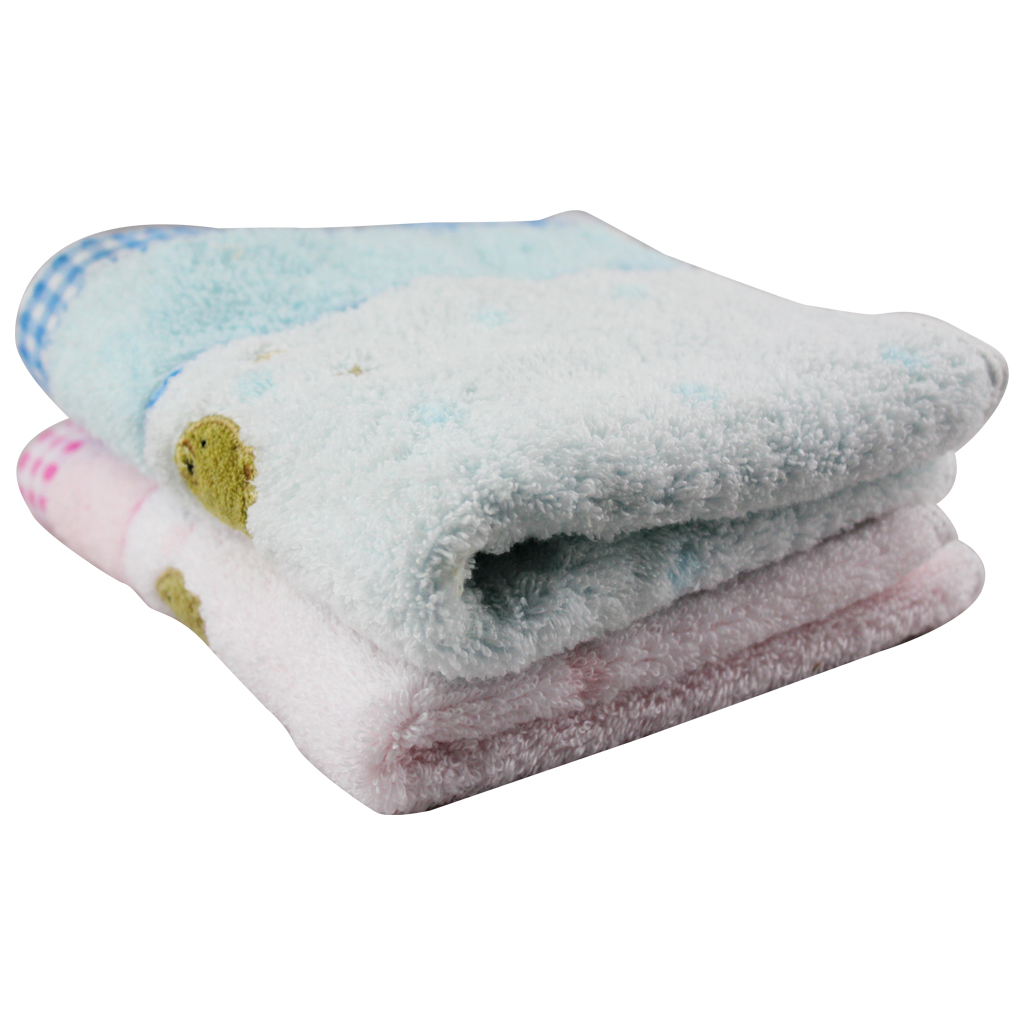flexible: (12, 208, 1013, 812)
